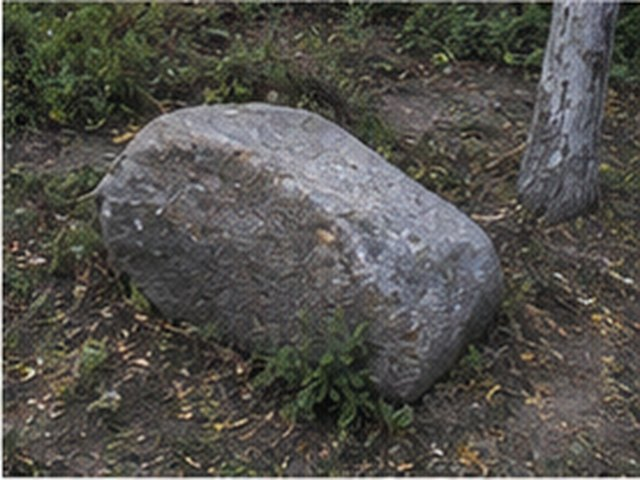tower: (97, 104, 501, 400)
